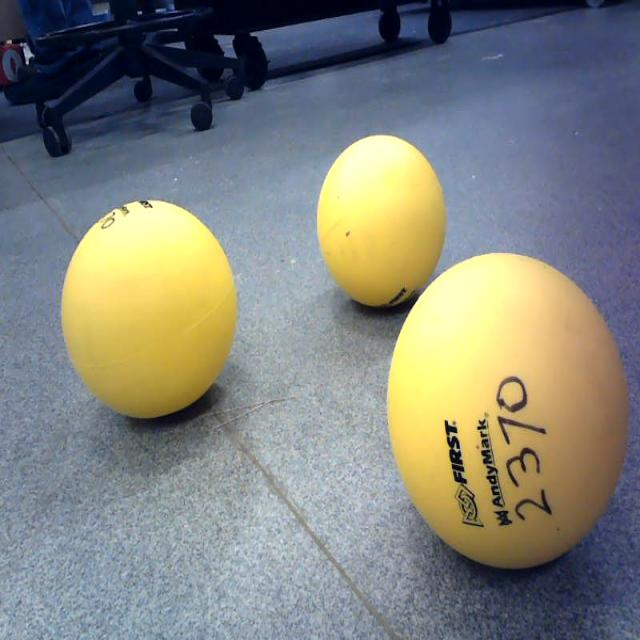Fuel: (386, 252, 629, 570), (60, 199, 238, 420), (316, 133, 447, 309)
